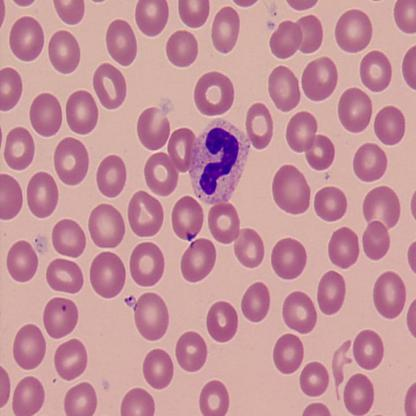Band Neutrophil: (186, 114, 252, 207)
